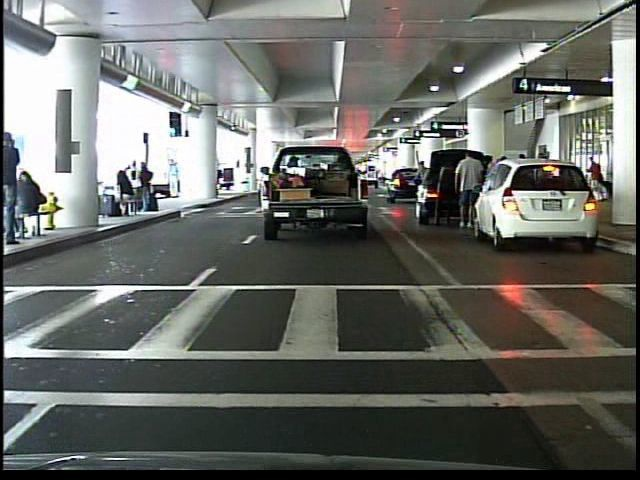person: (454, 146, 485, 233), (5, 131, 27, 249), (428, 152, 459, 230), (582, 153, 608, 203), (412, 157, 431, 211), (167, 157, 184, 200)
